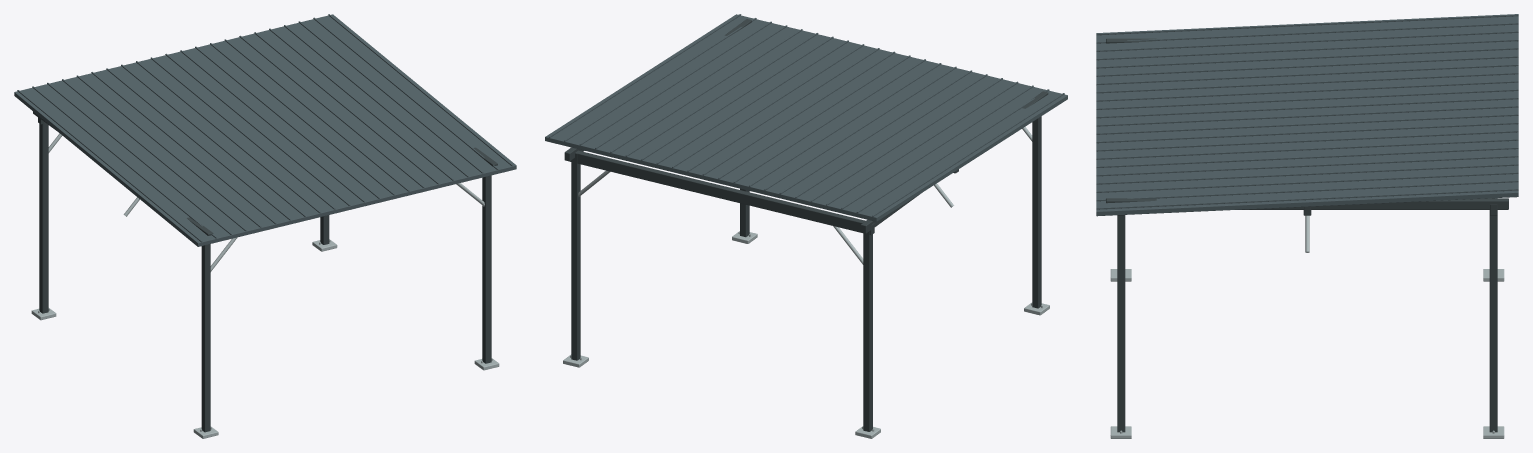
The model's file is cargo_shelter_8m.glb.
3 views of the same model, side by side, from view 1: azimuth 30°, elevation 25°; view 2: azimuth 150°, elevation 25°; view 3: azimuth 270°, elevation 25° (orthographic). The views are drawn at different scales.
Parts seen in each view (by area): view 1: cargo_shelter_8m; view 2: cargo_shelter_8m; view 3: cargo_shelter_8m.
Part boxes in pixels (x1,y1,x2,y2): cargo_shelter_8m: (14, 14, 516, 438); cargo_shelter_8m: (545, 14, 1067, 438); cargo_shelter_8m: (1096, 14, 1518, 438).
Size of the model in its own units: 8.4 by 5.57 by 8.39.
